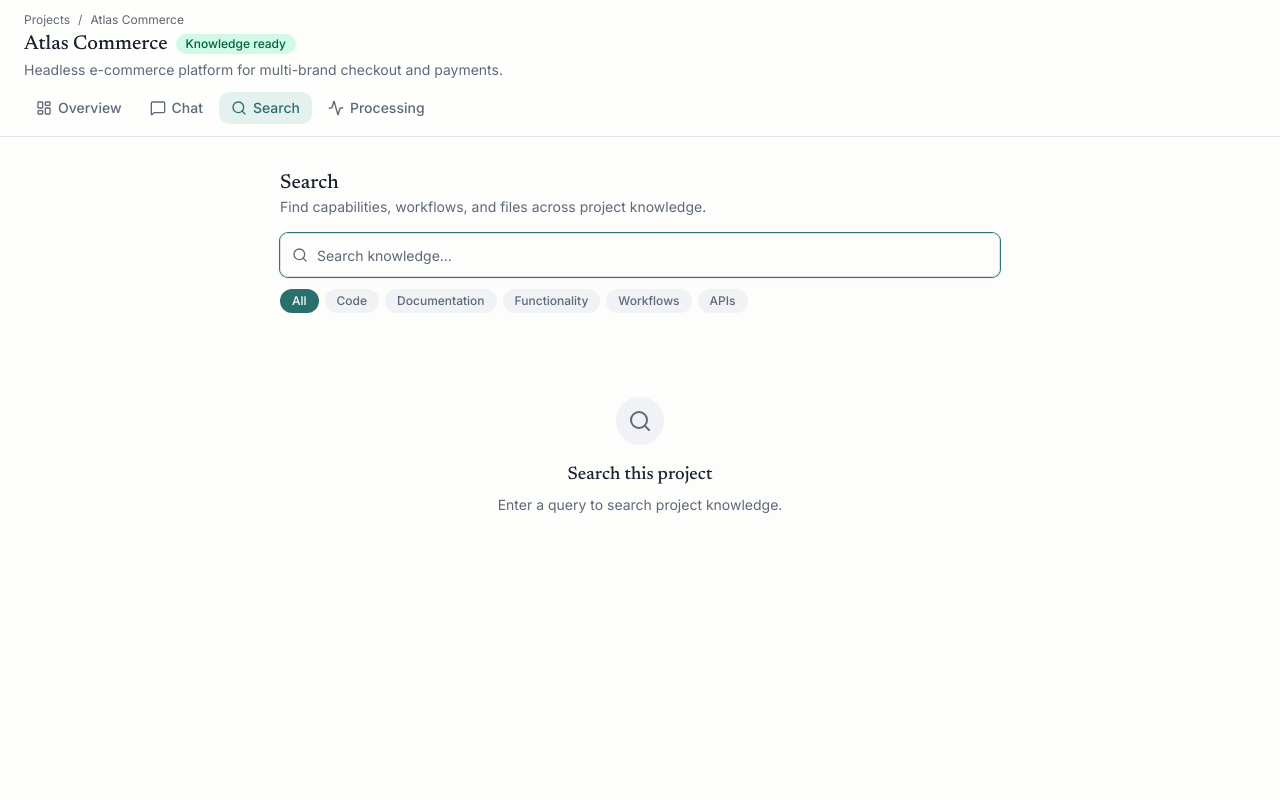
Test case: SearchPanel › opens a preview and navigates Ask about this without q=
Expected: the heading "Search" is shown, top-left (280, 173), bottom-right (339, 193)
Type "refund" into the field with placeholder "Search knowledge…" at point(640, 255), box top-left (280, 233), bottom-right (1000, 277)
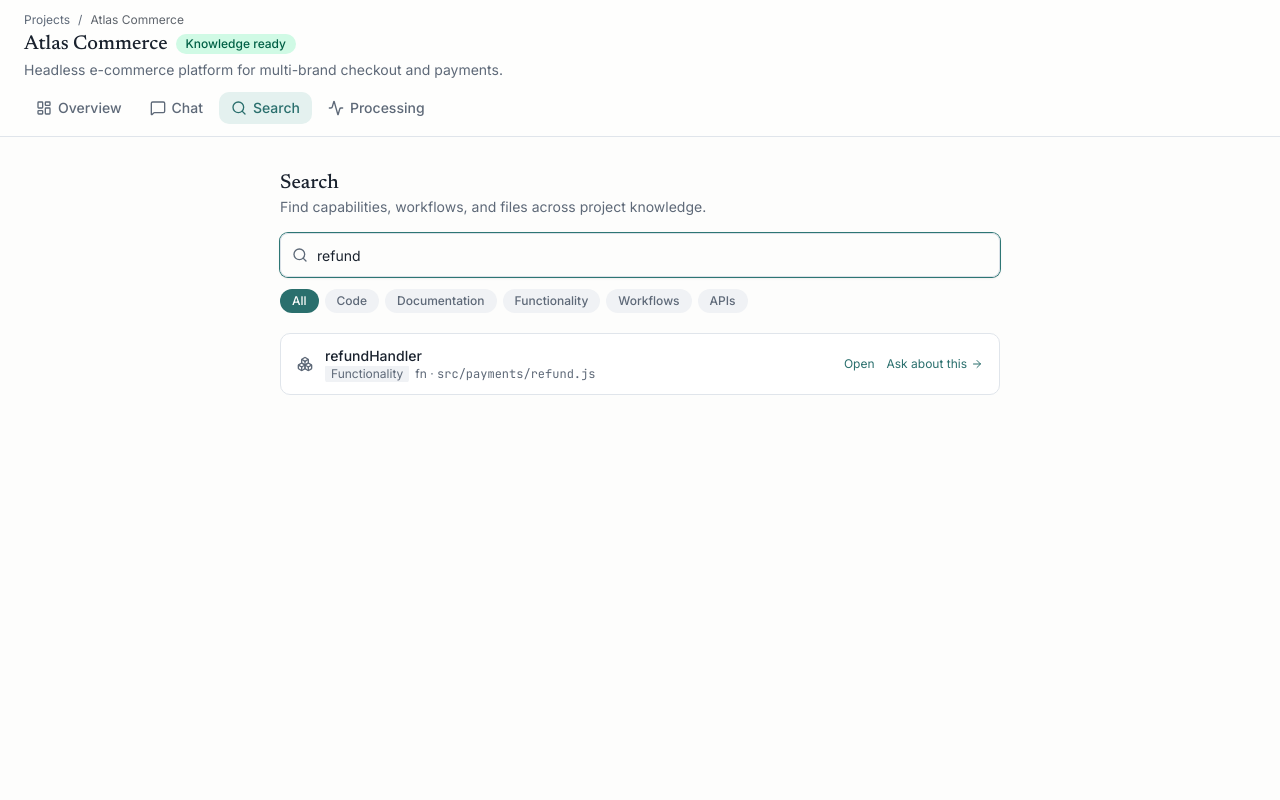
Expected: the text "refundHandler" is shown, top-left (325, 347), bottom-right (422, 364)
Click the button "Open" at point(859, 364), box top-left (844, 356), bottom-right (874, 372)
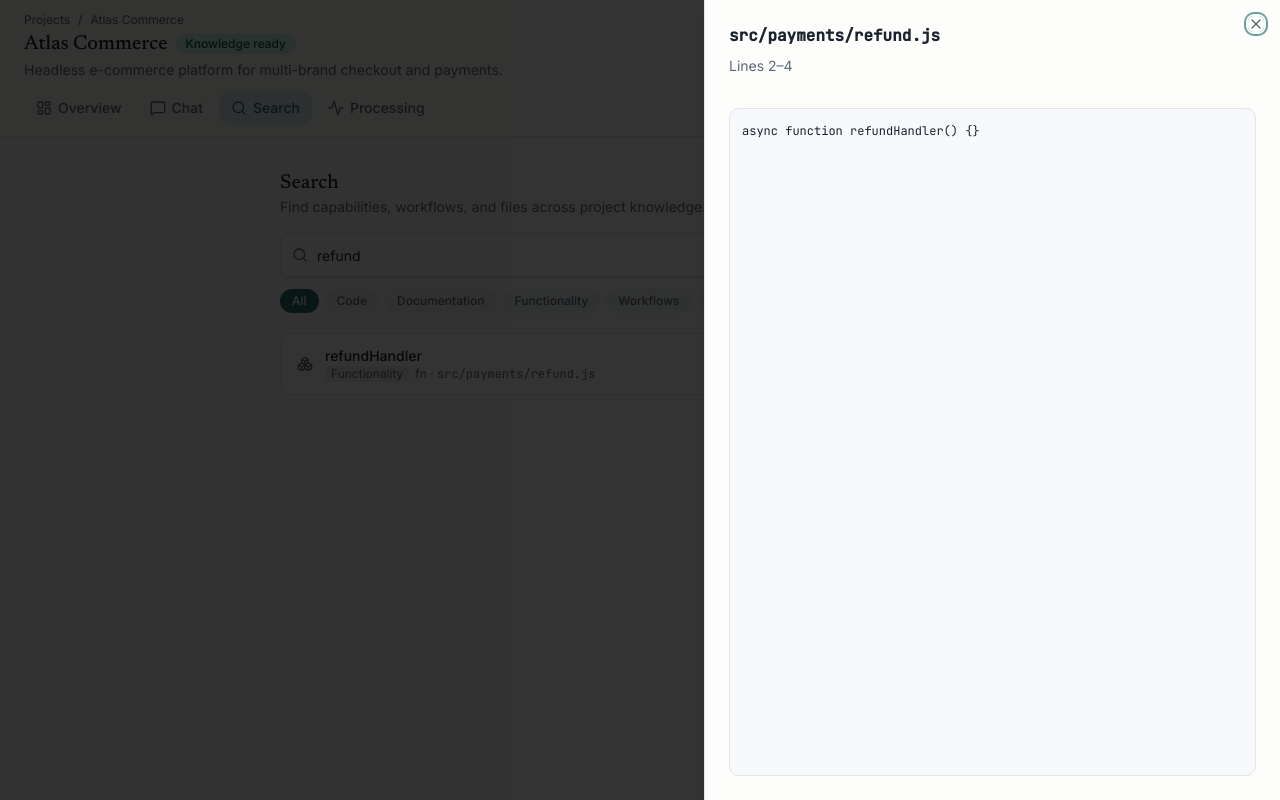
Expected: the text "async function refundHandler() {}" is shown, top-left (729, 108), bottom-right (1256, 776)
Click the button named "Close" at point(1256, 24), box top-left (1248, 16), bottom-right (1264, 32)
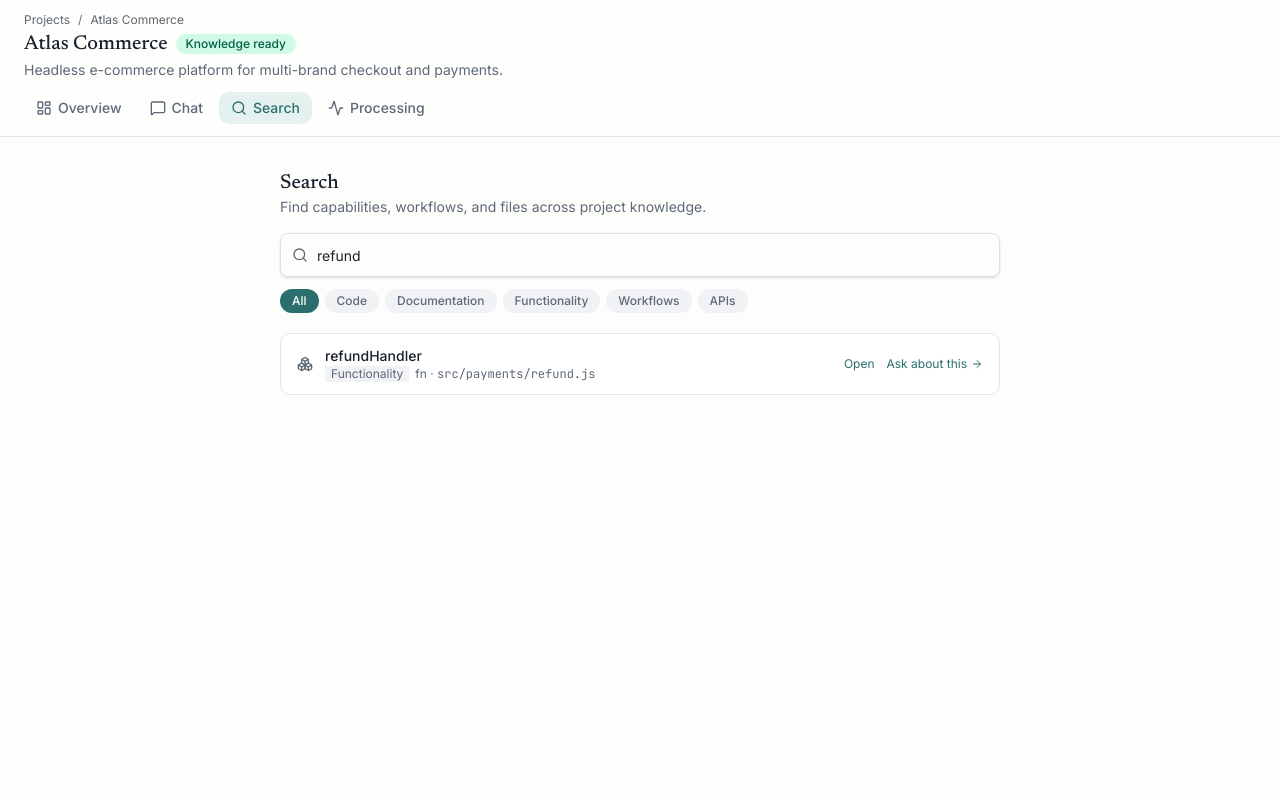
Expected: the dialog is gone
Click the button "Ask about this" at point(935, 364), box top-left (886, 356), bottom-right (983, 372)
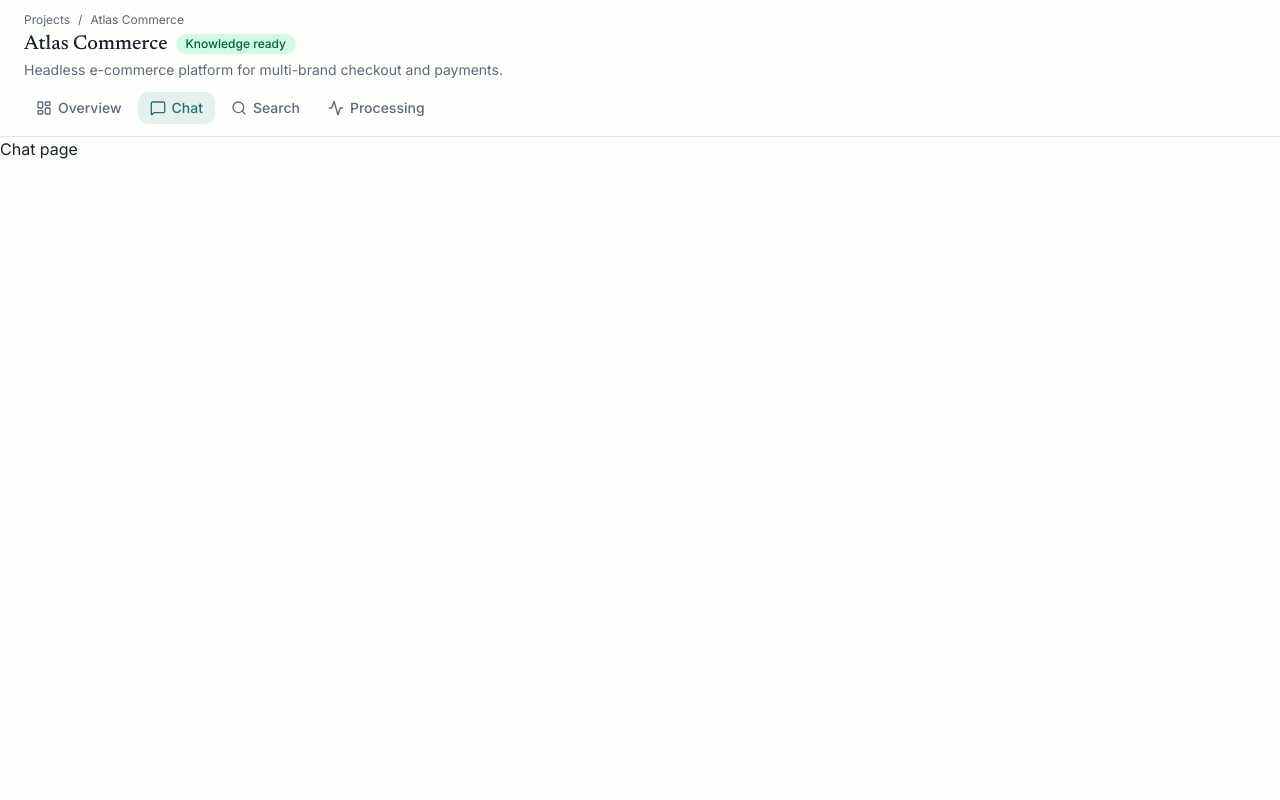
Expected: the text "Chat page" is shown, top-left (0, 139), bottom-right (78, 159)
